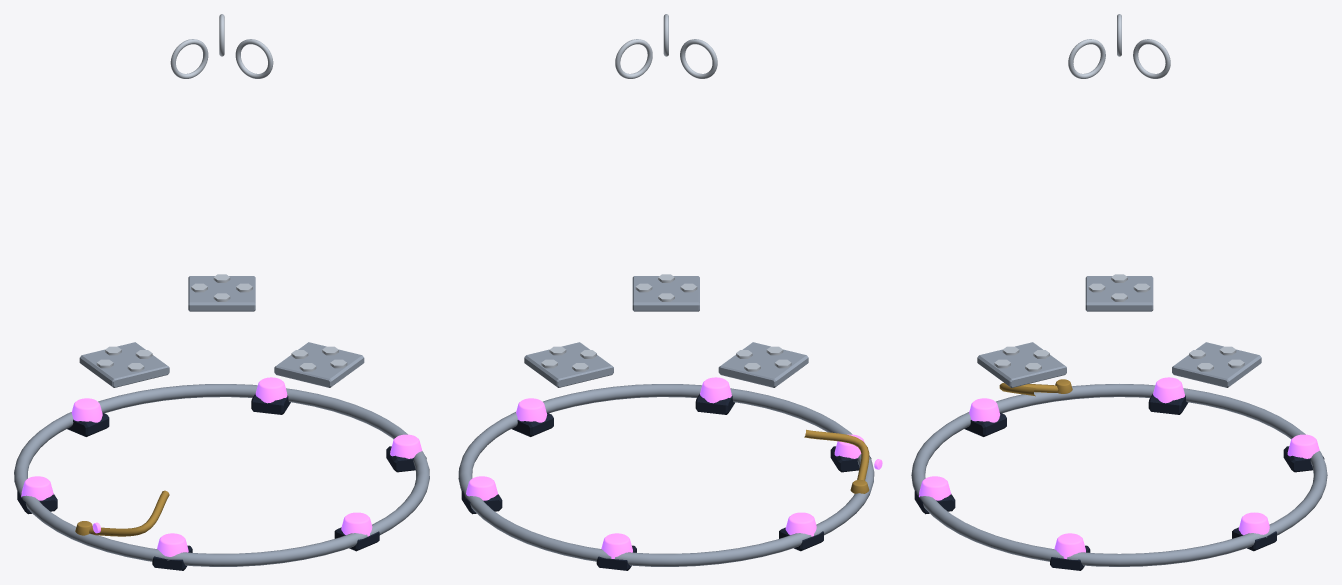
File: tower_singularity_range_s5.glb
The picture shows the model from 3 angles, left to right: view 1: azimuth 30°, elevation 25°; view 2: azimuth 150°, elevation 25°; view 3: azimuth 270°, elevation 25°; orthographic projection.
Visible parts, largest first — view 1: singularity_projector_ring, singularity_foot_plate0, singularity_foot_plate1, singularity_foot_plate2, singularity_projector_conduit, singularity_projector_node2, singularity_projector_node1, singularity_projector_node3, singularity_projector_node0, singularity_focus_ring0, singularity_focus_ring1, singularity_projector_node4 (+6 smaller); view 2: singularity_projector_ring, singularity_foot_plate0, singularity_foot_plate2, singularity_foot_plate1, singularity_projector_conduit, singularity_projector_node4, singularity_projector_node3, singularity_focus_ring0, singularity_focus_ring2, singularity_projector_node2, singularity_projector_node0, singularity_projector_node1 (+4 smaller); view 3: singularity_projector_ring, singularity_foot_plate1, singularity_foot_plate2, singularity_foot_plate0, singularity_projector_node0, singularity_projector_node5, singularity_projector_node1, singularity_focus_ring1, singularity_focus_ring2, singularity_projector_node4, singularity_projector_node2, singularity_projector_node3 (+5 smaller).
Part boxes in pixels (box(x1,y1,x2,y2)): singularity_projector_ring: box(14, 384, 429, 566); singularity_foot_plate0: box(79, 342, 169, 387); singularity_foot_plate1: box(274, 342, 364, 387); singularity_foot_plate2: box(188, 276, 255, 311); singularity_projector_conduit: box(89, 490, 169, 536); singularity_projector_node2: box(255, 377, 287, 403); singularity_projector_node1: box(71, 398, 102, 422); singularity_projector_node3: box(390, 434, 422, 458); singularity_projector_node0: box(21, 476, 53, 500); singularity_focus_ring0: box(170, 39, 208, 78); singularity_focus_ring1: box(235, 39, 273, 78); singularity_projector_node4: box(341, 512, 372, 536); singularity_projector_ring: box(458, 384, 874, 566); singularity_foot_plate0: box(718, 342, 808, 387); singularity_foot_plate2: box(524, 342, 613, 387); singularity_foot_plate1: box(632, 276, 699, 311); singularity_projector_conduit: box(804, 429, 869, 480); singularity_projector_node4: box(700, 377, 731, 403); singularity_projector_node3: box(516, 398, 547, 422); singularity_focus_ring0: box(680, 39, 717, 78); singularity_focus_ring2: box(615, 39, 652, 78); singularity_projector_node2: box(466, 476, 498, 500); singularity_projector_node0: box(785, 512, 816, 536); singularity_projector_node1: box(601, 533, 632, 558); singularity_projector_ring: box(911, 384, 1327, 566); singularity_foot_plate1: box(977, 342, 1066, 387); singularity_foot_plate2: box(1172, 342, 1261, 387); singularity_foot_plate0: box(1085, 276, 1153, 311); singularity_projector_node0: box(1153, 377, 1184, 403); singularity_projector_node5: box(969, 398, 1000, 422); singularity_projector_node1: box(1287, 434, 1319, 458); singularity_focus_ring1: box(1068, 39, 1105, 78); singularity_focus_ring2: box(1133, 39, 1170, 78); singularity_projector_node4: box(919, 476, 951, 500); singularity_projector_node2: box(1238, 512, 1269, 535); singularity_projector_node3: box(1054, 533, 1085, 558).
Bounding box in the file's own units: 2.22 × 2.67 × 2.22.
